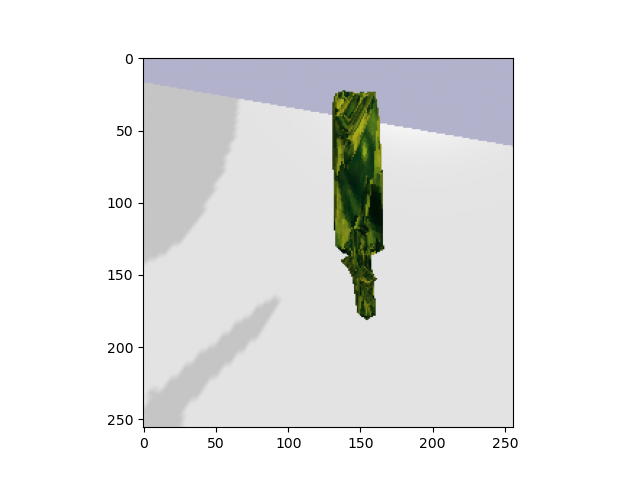v249b387_108: (320, 87, 409, 329)
